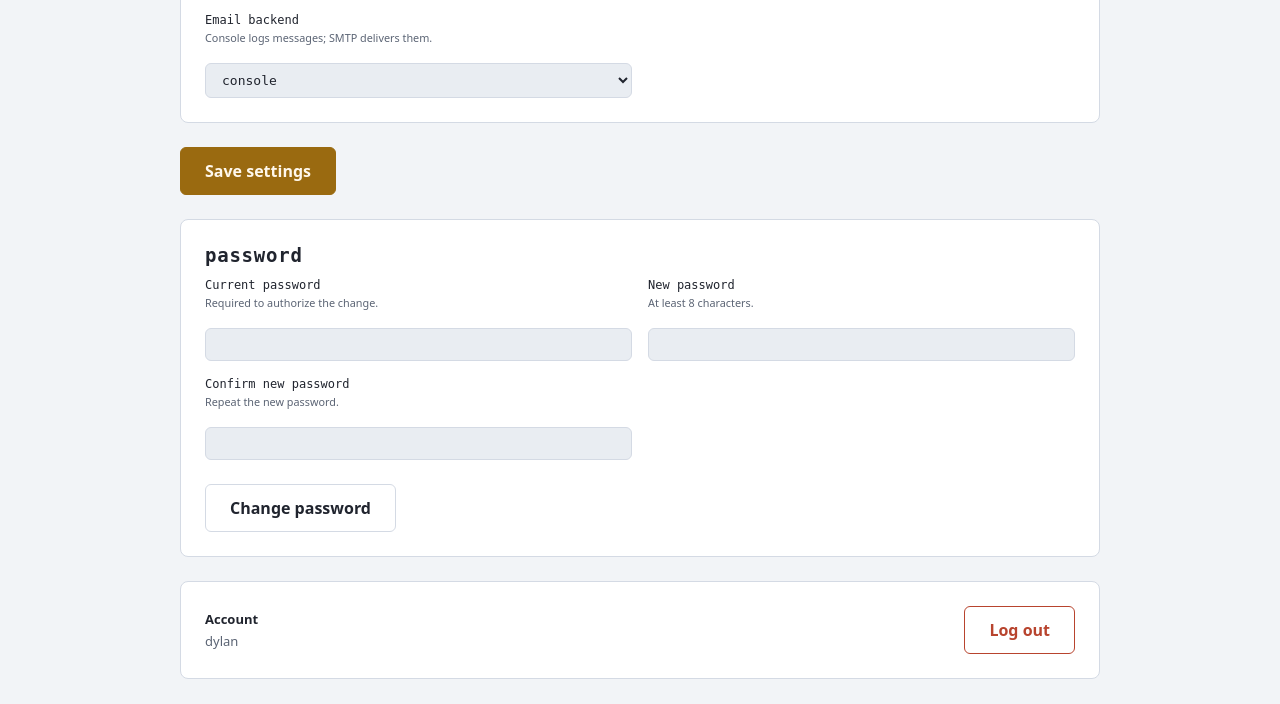
Test: change password posts current and new
(page scrolled)
In the password field labelled "Current password Required to authorize the change.": (418,345) [205,328,632,361], type "old-pass-1"
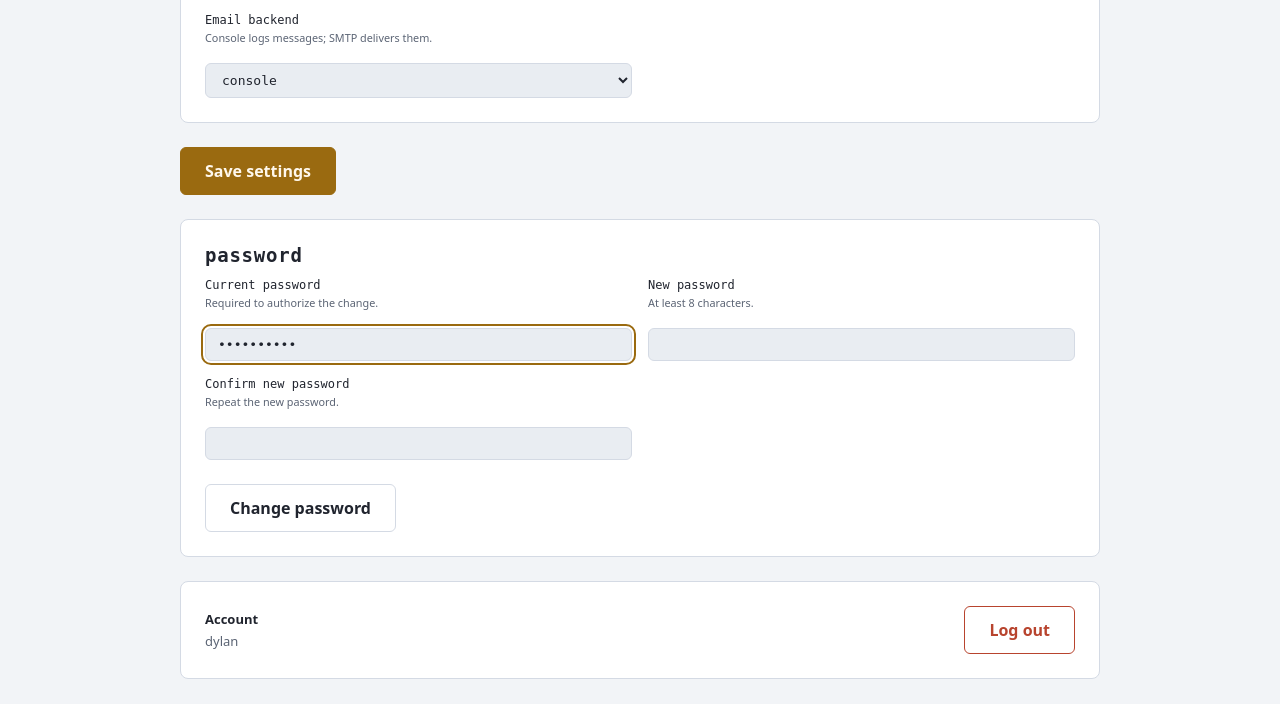
In the password field labelled "New password": (862,345) [648,328,1075,361], type "new-pass-123"
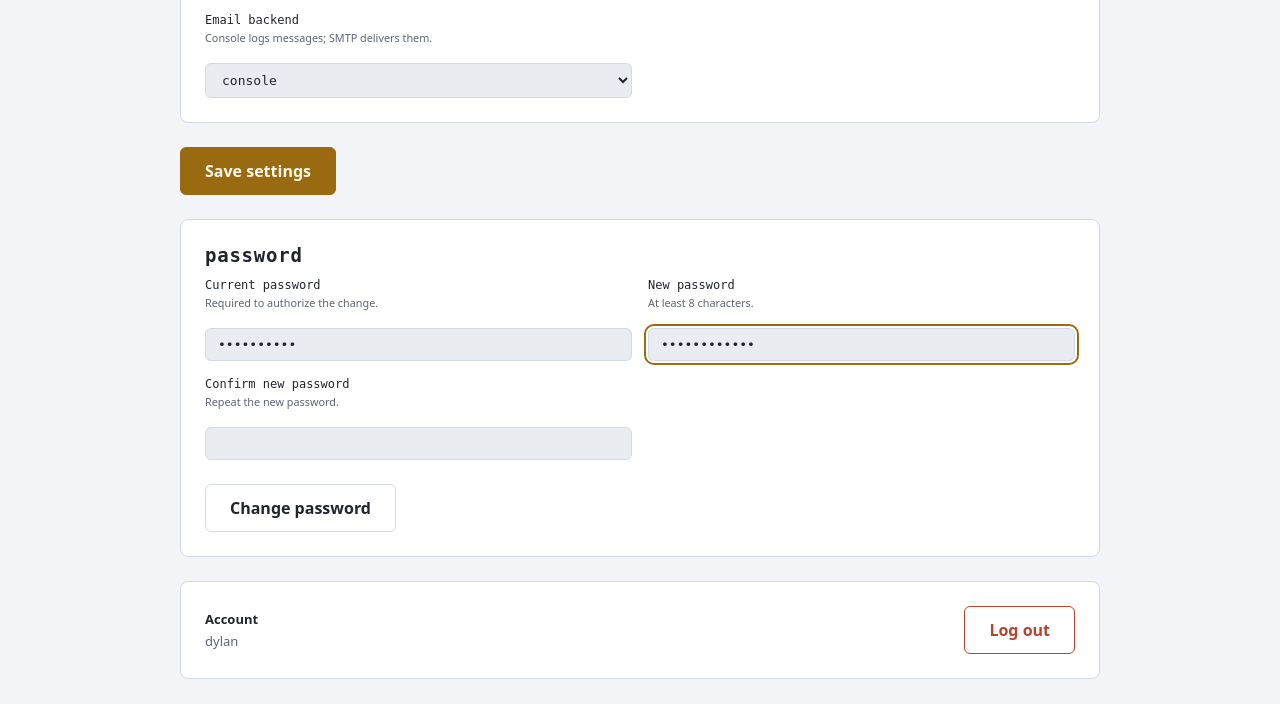
In the password field labelled "Confirm new password": (418,444) [205,427,632,460], type "new-pass-123"
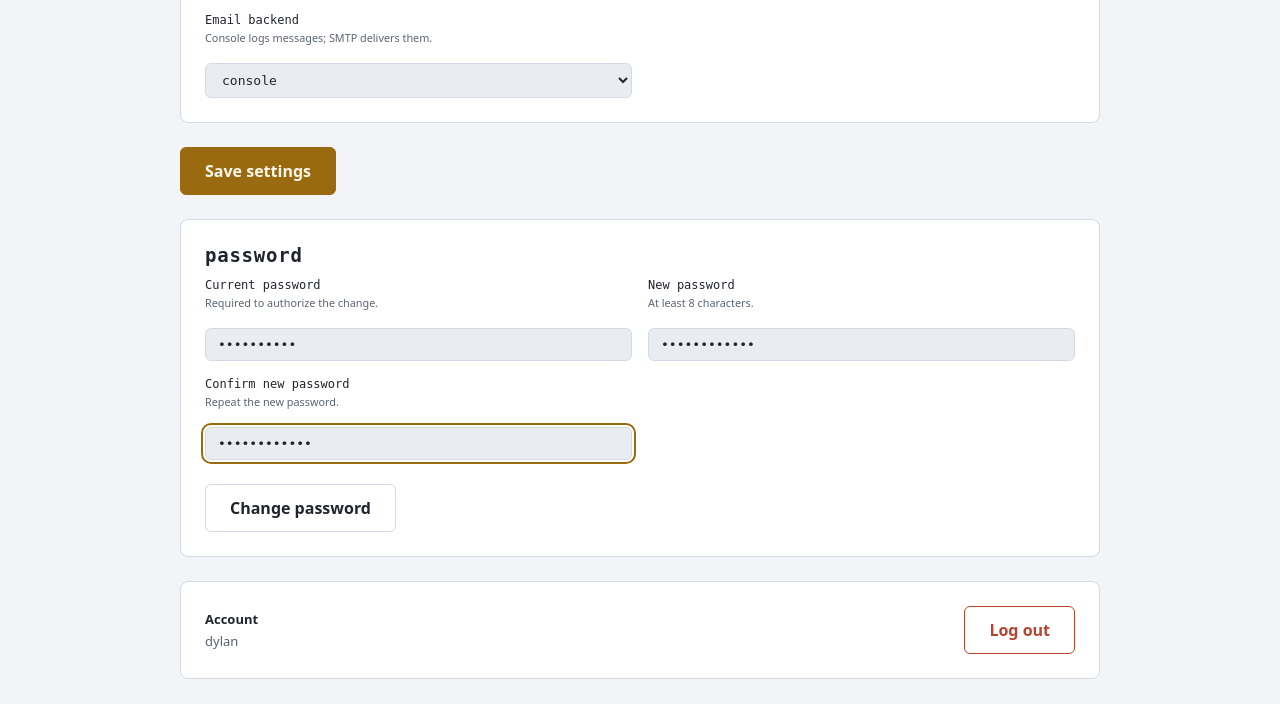
Click the button "Change password": (300,508) [205,484,396,532]
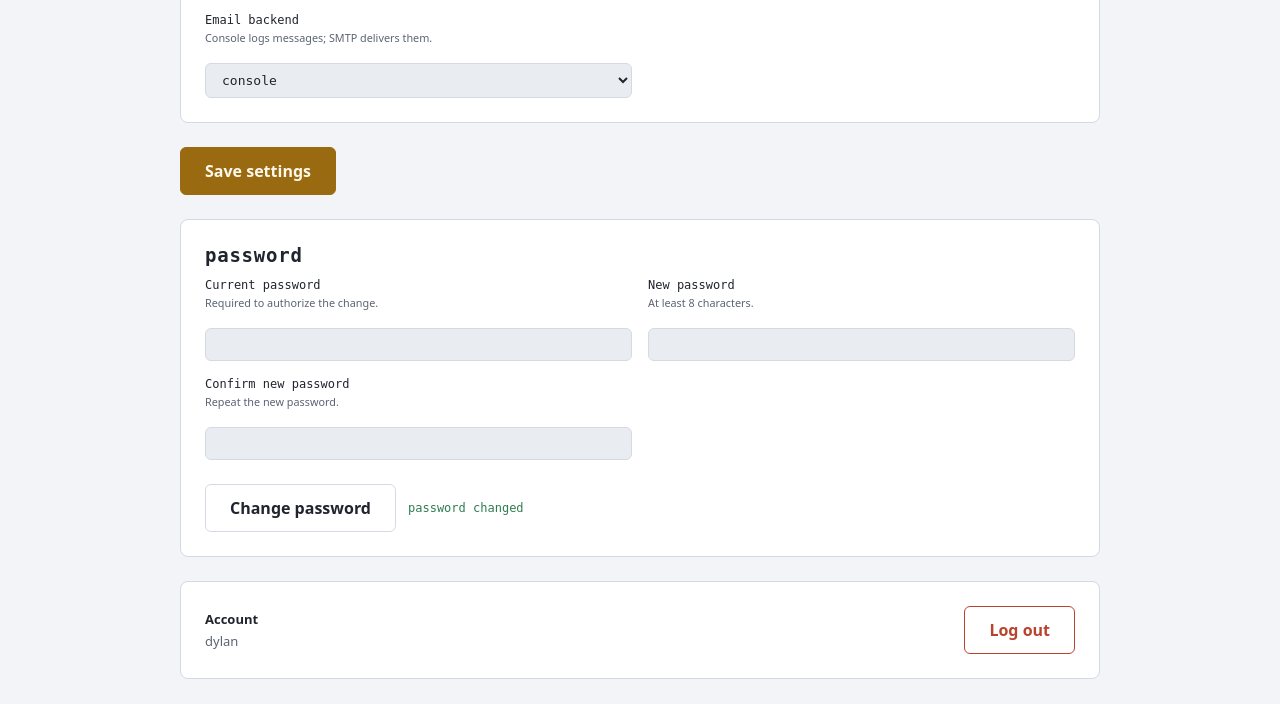
Now the text "password changed" is shown, box [408,501,524,515]
